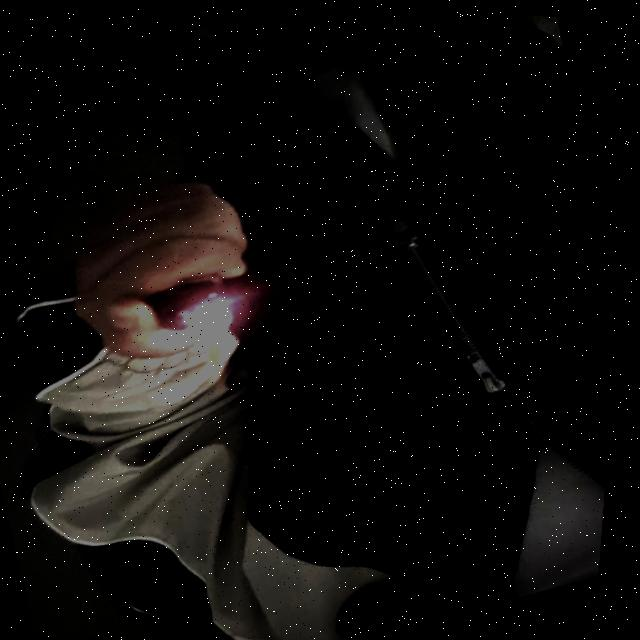Fire: (198, 307, 246, 375)
